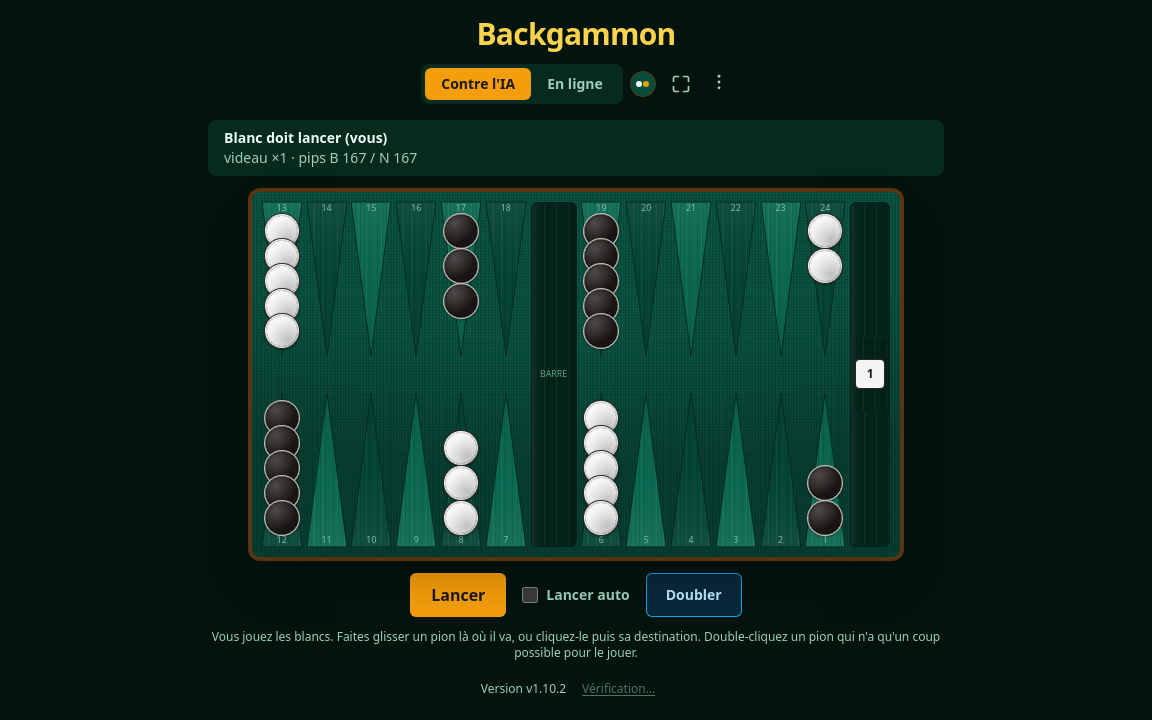
Test: theme switcher › closes on a click outside it
Click the button named "Thème : " at (643, 84), box [631,72,655,96]
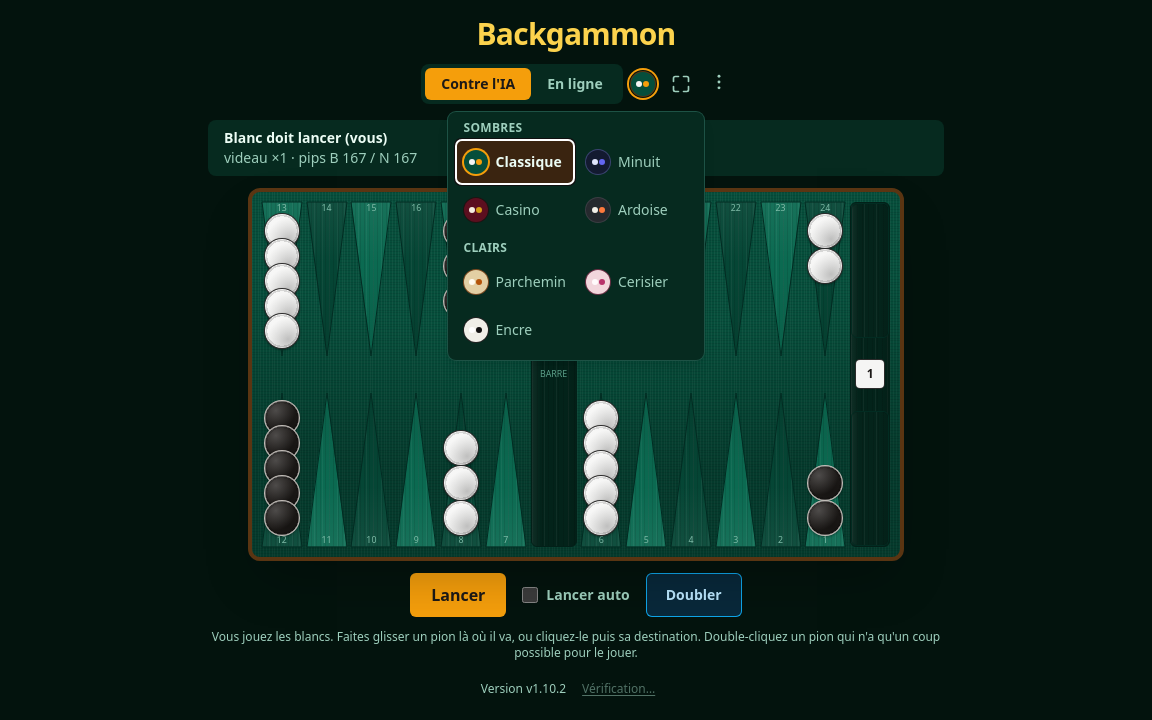
Press the mouse on the element that starts with "Backgammon" at (576, 360), box [0,0,1151,719]
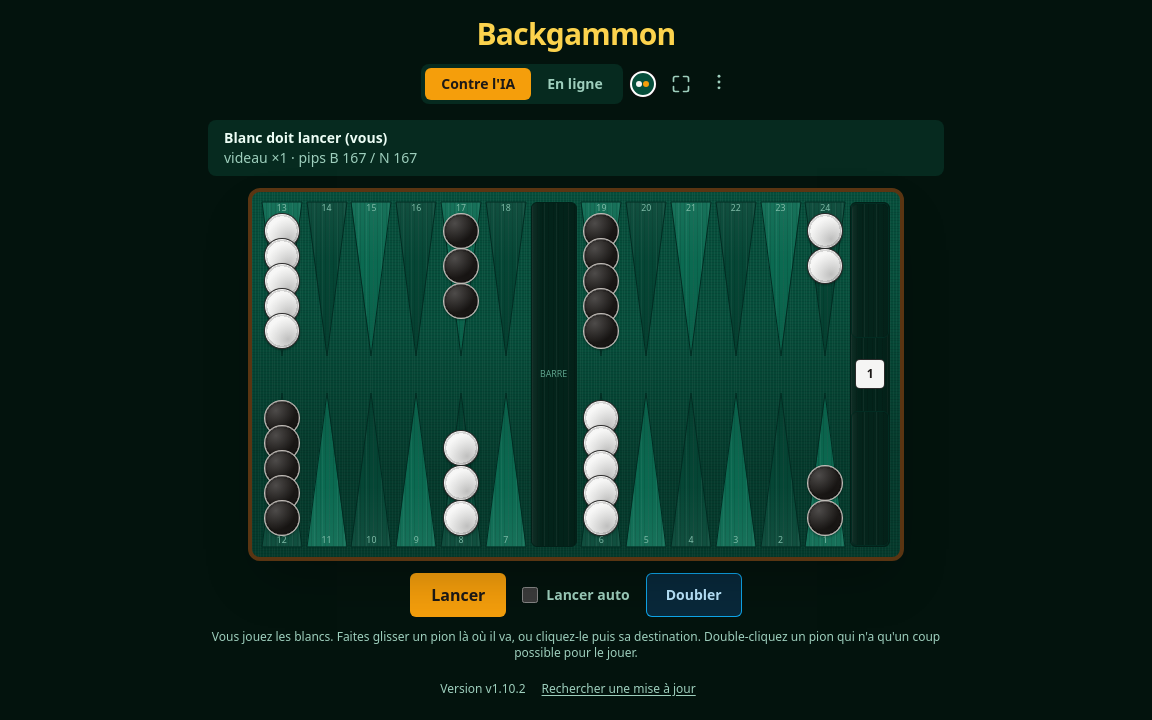
Expected: the button named "Thème : " is collapsed, [631,72,655,96]
